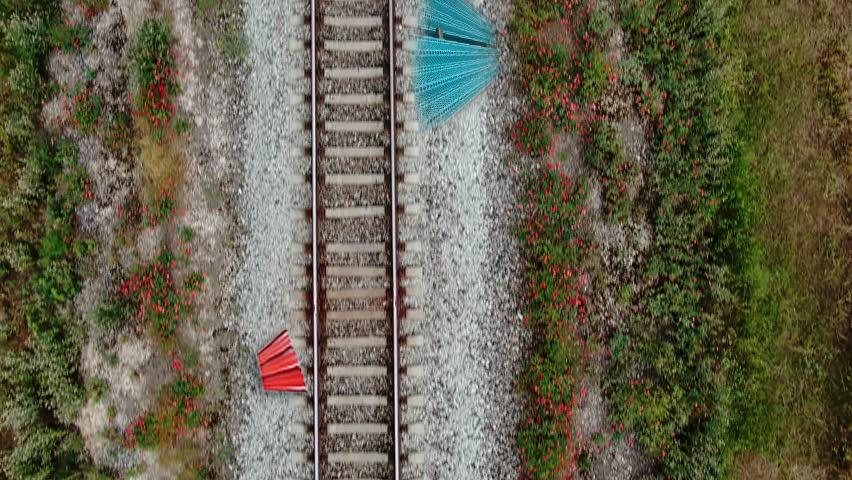Color_steel: (411, 0, 498, 135), (255, 325, 307, 405)
